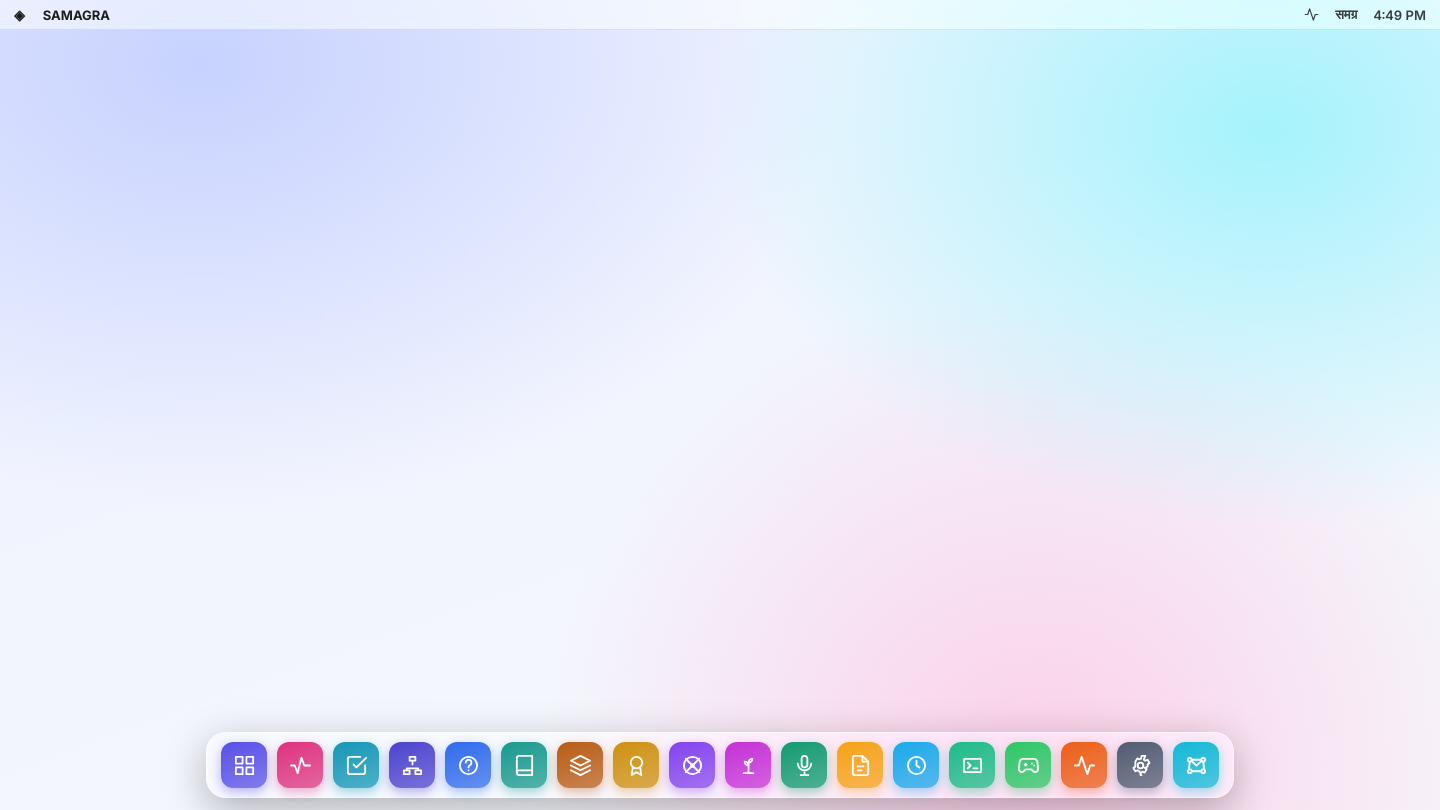
Test: App (right-click context menus — all themes) › opens the dock-icon menu on an aqua dock right-click (Open + Close window)
Right-click the button named "terminal" at (972, 765), box [949,742,995,788]
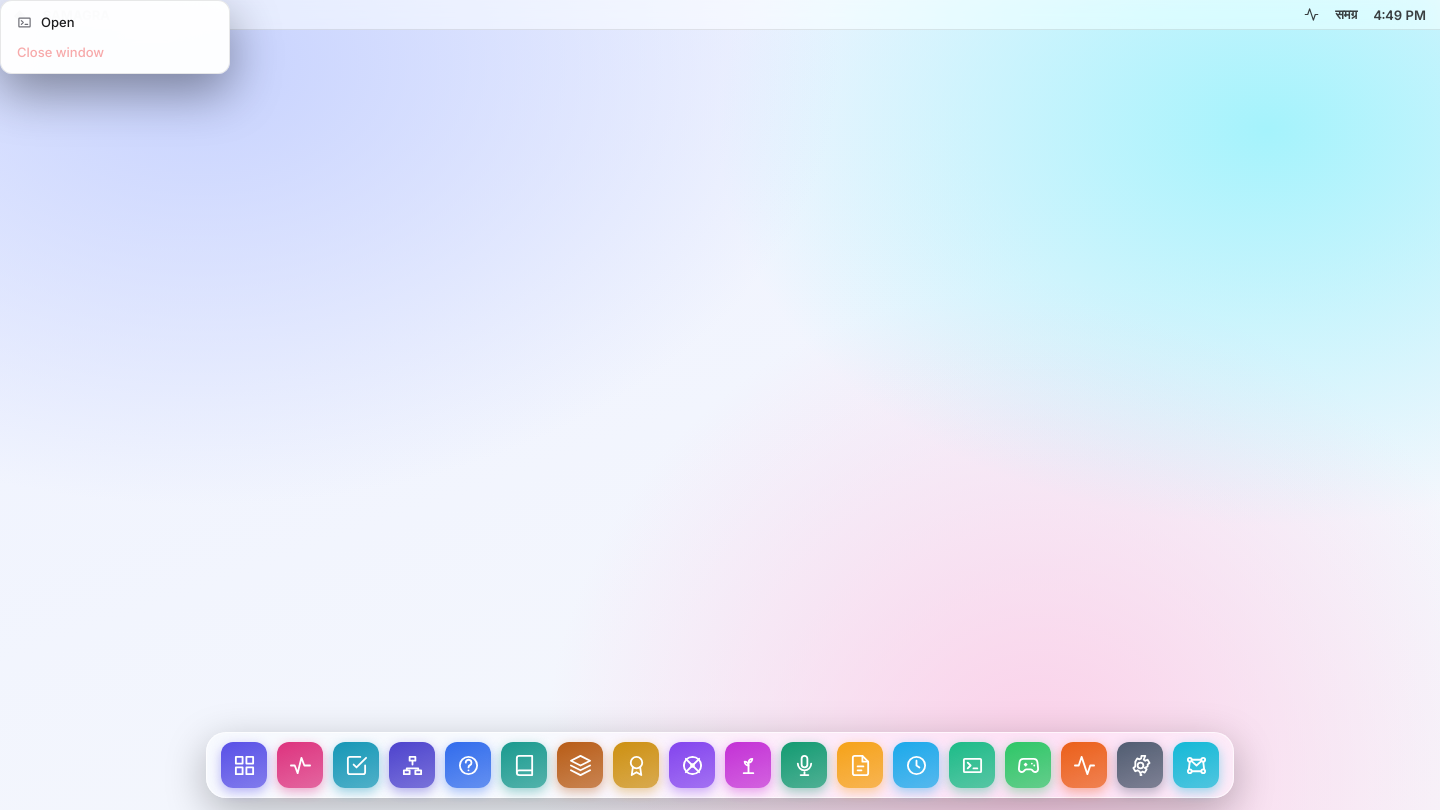
Expected: the text "Open" is shown, [41,14,74,30]
Expected: the text "Close window" is shown, [17,44,104,60]
